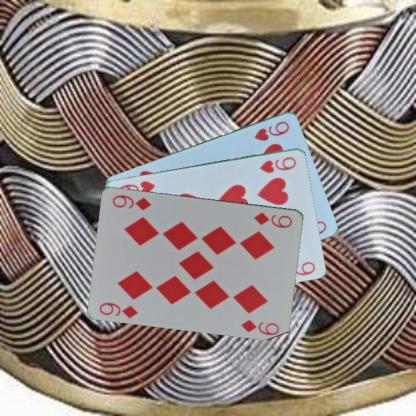9d: (251, 209, 294, 230), (97, 300, 139, 320)
9h: (251, 118, 291, 142), (257, 154, 298, 174)
